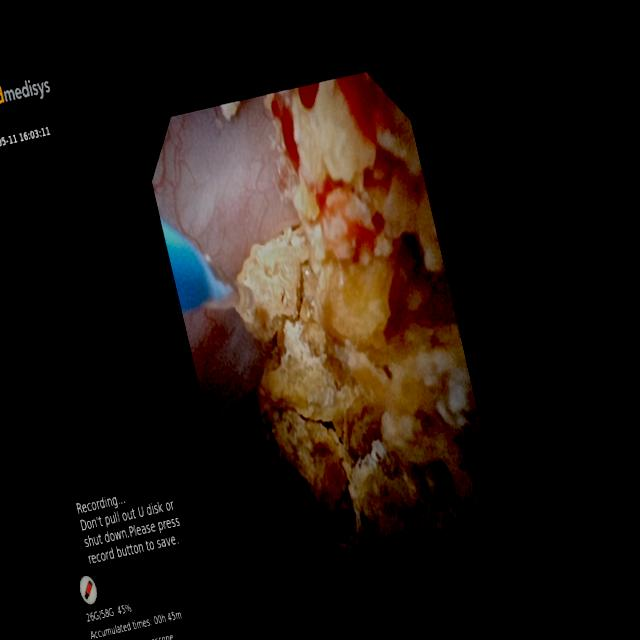laser-fibre: (204, 254, 254, 309)
stone-new: (235, 74, 488, 543)
